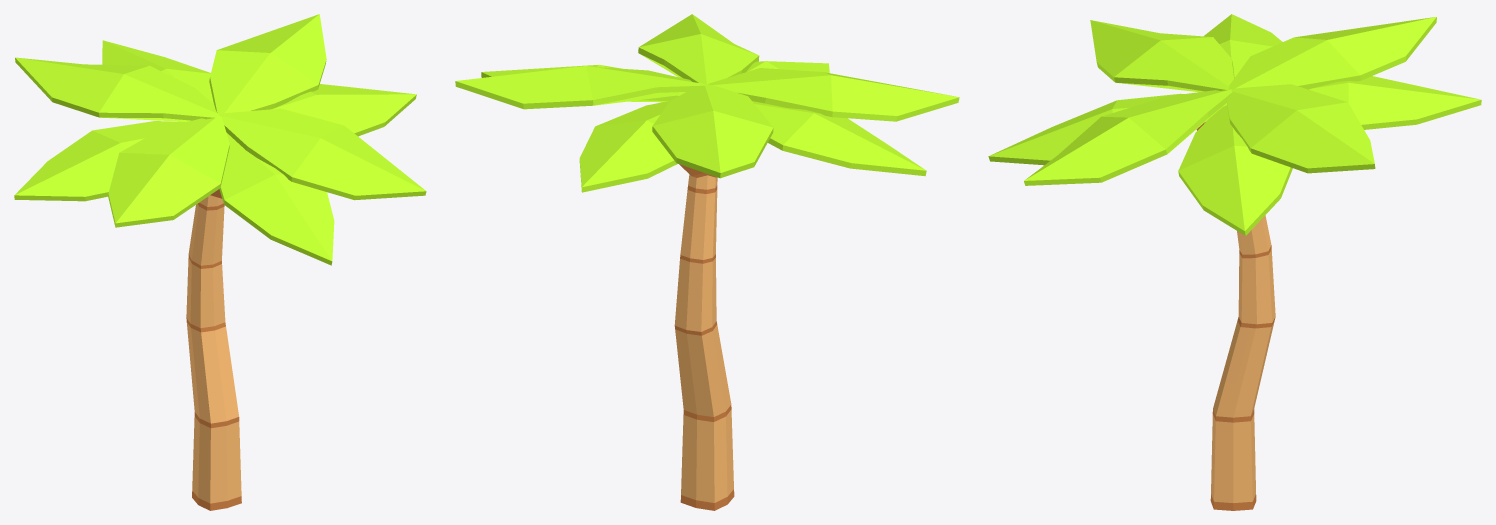
The model's file is palmeira.glb.
3 views of the same model, side by side, from view 1: azimuth 30°, elevation 25°; view 2: azimuth 150°, elevation 25°; view 3: azimuth 270°, elevation 25° (orthographic). The views are drawn at different scales.
Visible parts, largest first — view 1: Cube.001; view 2: Cube.001; view 3: Cube.001.
Boxes of the visible parts, x1,y1,x2,y2 form: Cube.001: (14,14,426,510); Cube.001: (455,14,959,510); Cube.001: (988,14,1481,510).
Bounding box in the file's own units: 29.1 × 27.63 × 28.36.
